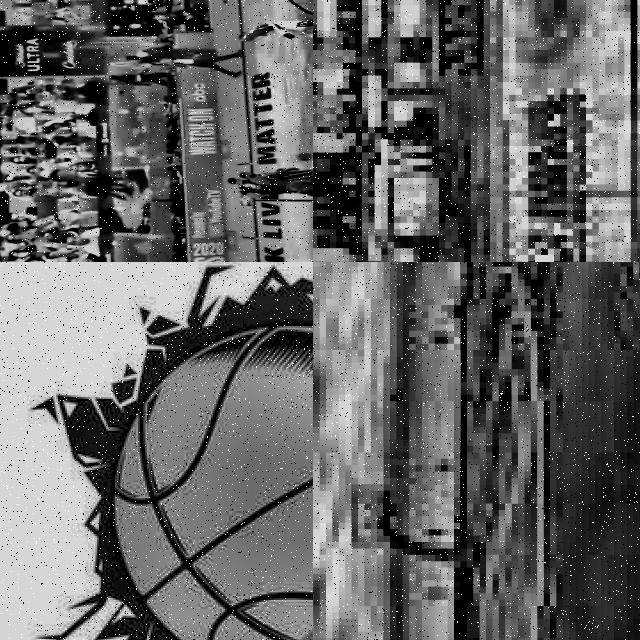Basketball: (113, 320, 313, 640), (297, 152, 311, 160)
